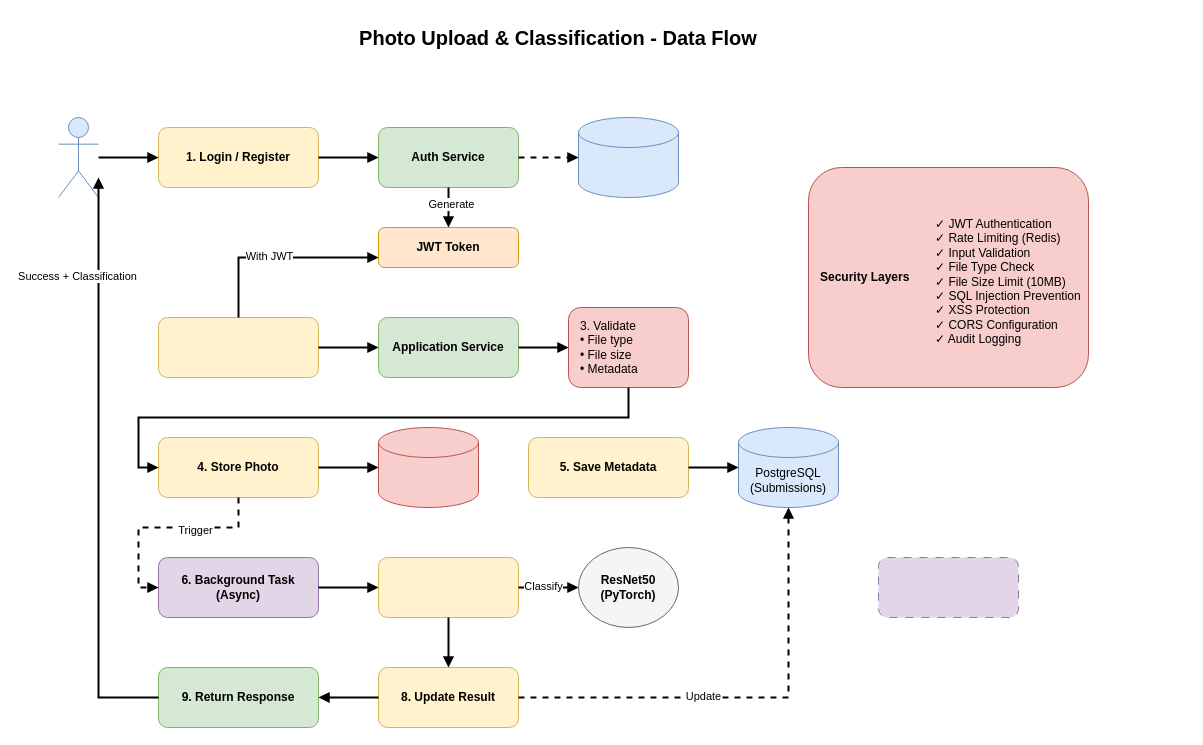
The diagram is 1203 pixels wide and 745 high, and some of its shapes have lost their labels. The centre of each missing label's shape, as x and y in pixels:
2. Upload Photo + Metadata: the point at 238,347
7. ML Classification: the point at 448,587
Async Processing (Non-blocking): the point at 948,587
MinIO S3: the point at 428,467
PostgreSQL (User Data): the point at 628,157
User: the point at 78,157
